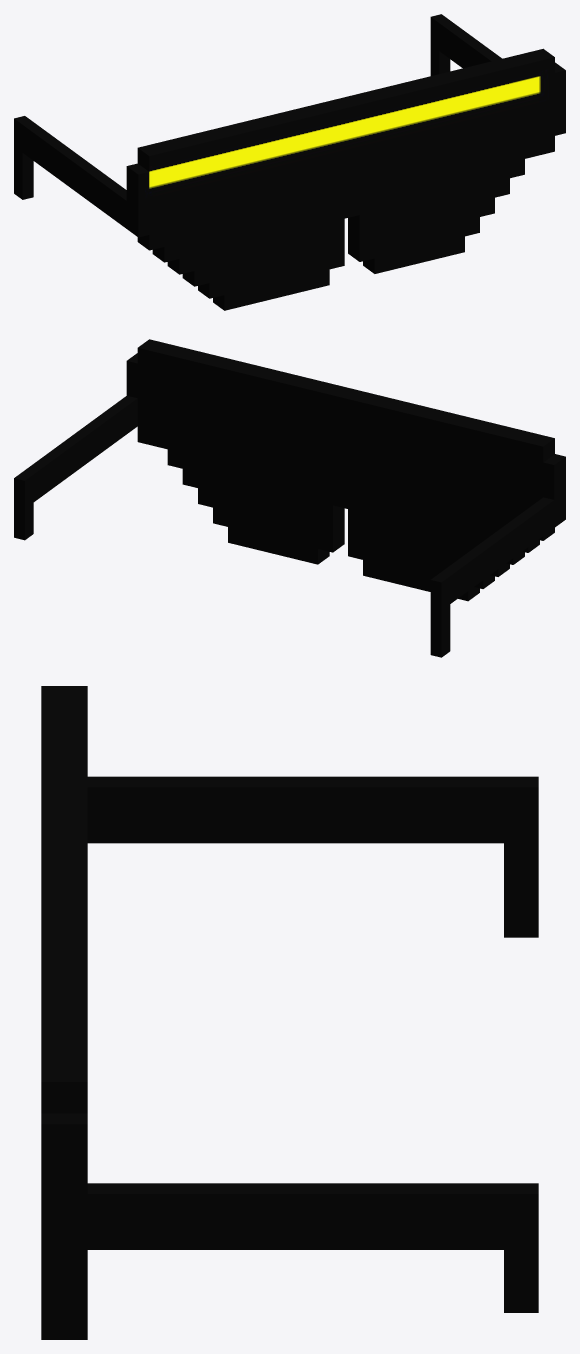
The model's file is sunnies_black.glb.
3 views of the same model, one above another, from view 1: azimuth 30°, elevation 25°; view 2: azimuth 150°, elevation 25°; view 3: azimuth 270°, elevation 25° (orthographic). The views are drawn at different scales.
Parts seen in each view (by area): view 1: blacj_sunnies.001; view 2: blacj_sunnies.001; view 3: blacj_sunnies.001.
Boxes of the visible parts, box(x1,y1,x2,y2) form: blacj_sunnies.001: box(14, 14, 565, 310); blacj_sunnies.001: box(14, 339, 565, 657); blacj_sunnies.001: box(41, 686, 538, 1339).
Size of the model in its own units: 2.85 by 1.1 by 1.43.
Materials: 1 (1 with a texture image).
